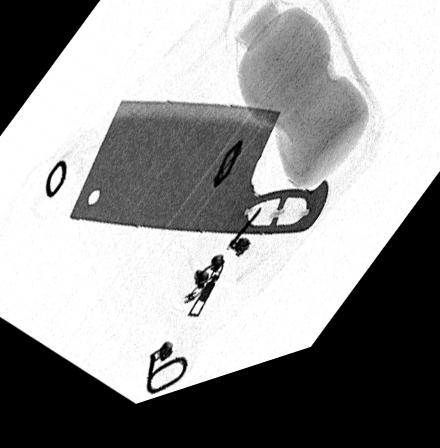Knife: (68, 107, 329, 251)
